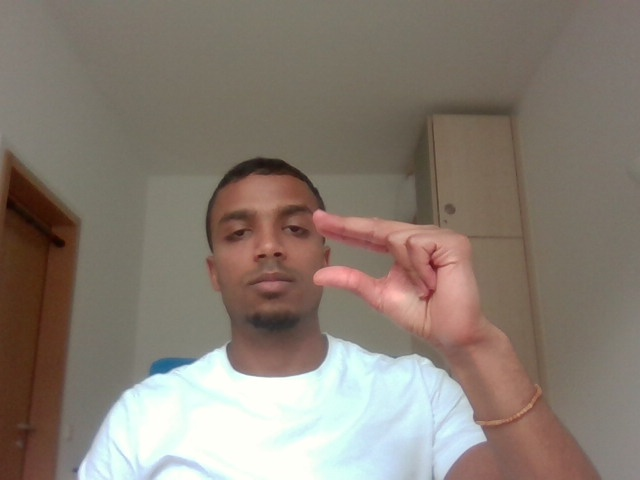never: (305, 186, 511, 363)
